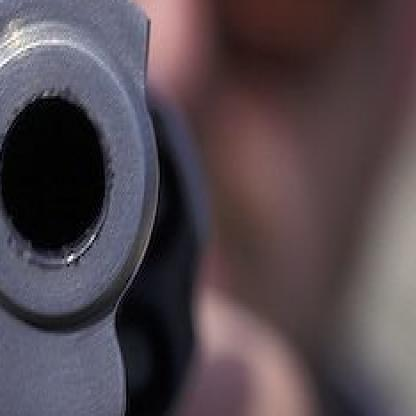gun: (0, 0, 203, 414)
